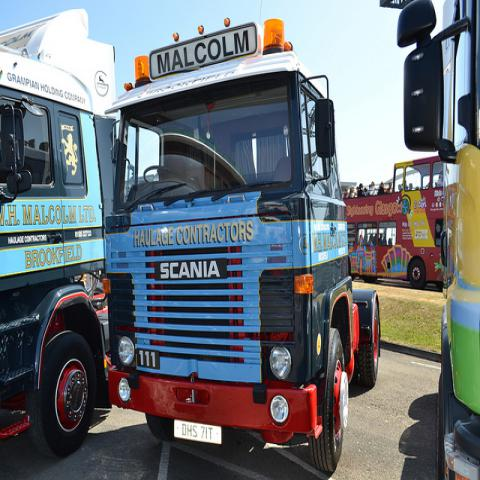bus: (339, 154, 447, 290)
truck: (103, 17, 380, 474), (0, 9, 123, 460), (396, 0, 480, 479)
